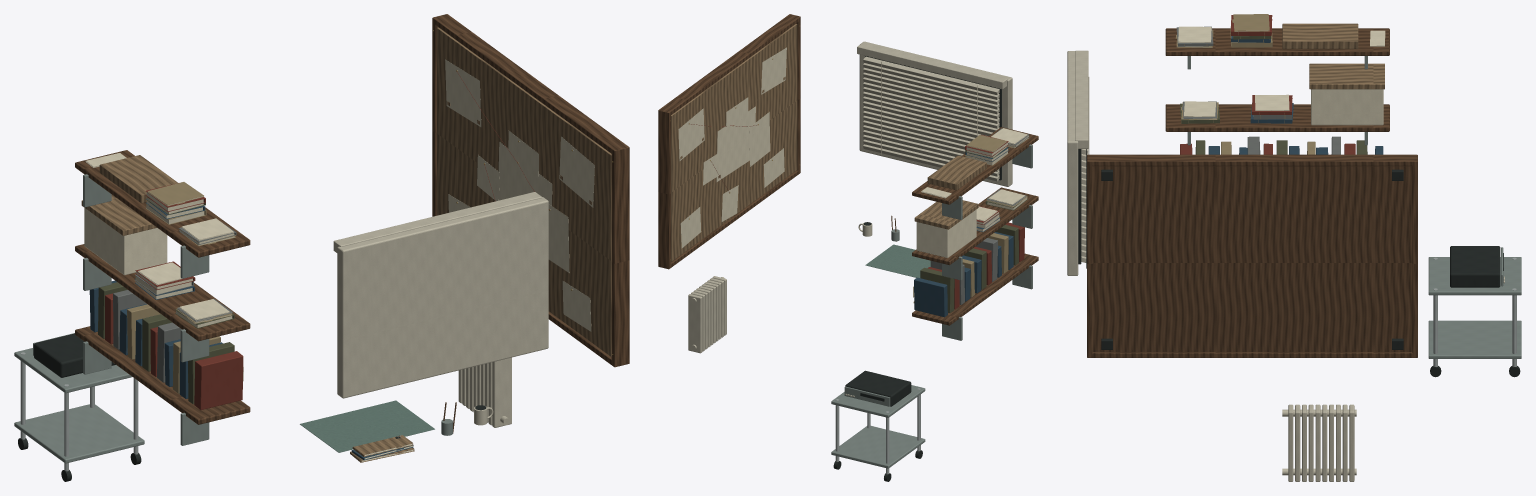
Rendered from SM_Office_Dressing.fbx.
3 renders of one model, left to right at view 1: azimuth 30°, elevation 25°; view 2: azimuth 150°, elevation 25°; view 3: azimuth 270°, elevation 25°, orthographic. The views are drawn at different scales.
Parts seen in each view (by area): view 1: SM_Office_Dressing; view 2: SM_Office_Dressing; view 3: SM_Office_Dressing.
Part boxes in pixels (<box>): SM_Office_Dressing: <box>14,14,629,481</box>; SM_Office_Dressing: <box>658,14,1038,481</box>; SM_Office_Dressing: <box>1067,14,1521,481</box>.
Size of the model in its own units: 2.62 by 2.88 by 2.43.
